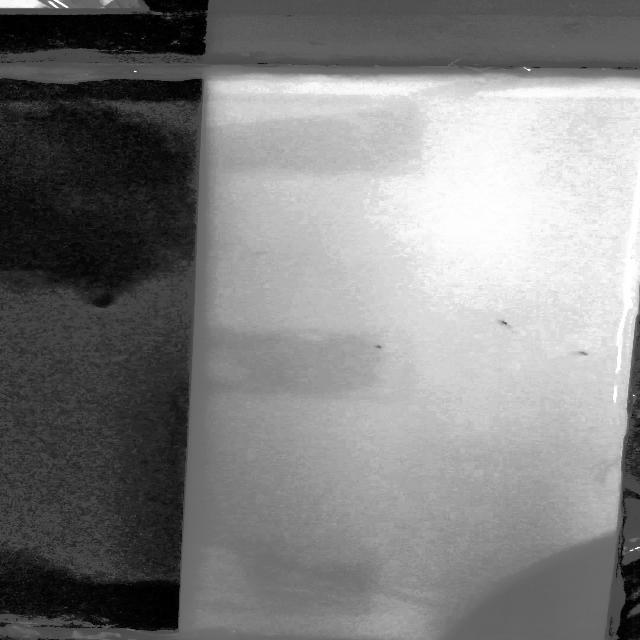shrimp: (482, 314, 528, 332), (362, 340, 395, 354)
